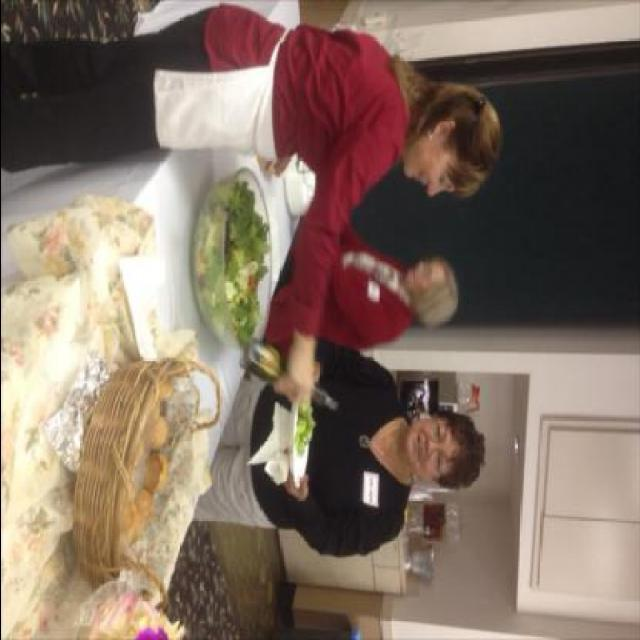Salad: (227, 180, 275, 342)
